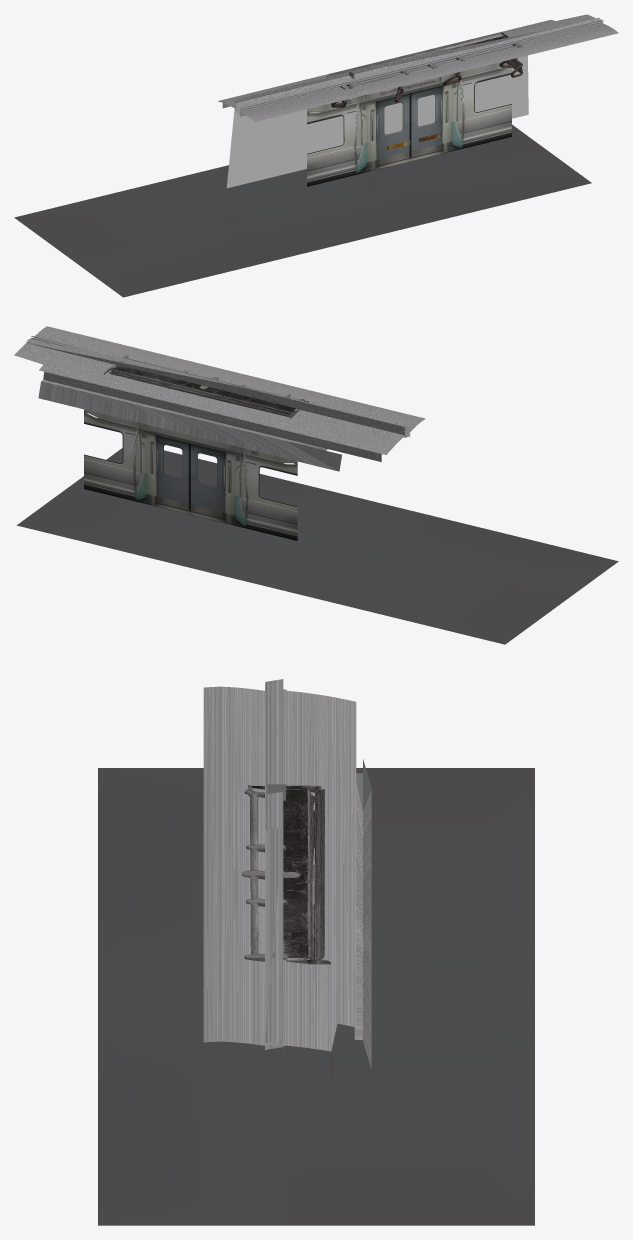
The model's file is Metro.glb.
3 renders of one model, top to bottom at view 1: azimuth 30°, elevation 25°; view 2: azimuth 150°, elevation 25°; view 3: azimuth 270°, elevation 25°, orthographic. The views are drawn at different scales.
Visible parts, largest first — view 1: Line002__0.002, Empty.001, Line002__0.001, window; view 2: Line002__0.002, Line002__0.001, Empty.001; view 3: Line002__0.002, Line002__0.001.
Boxes of the visible parts, x1,y1,x2,y2 form: Line002__0.002: (14, 32, 591, 297); Empty.001: (307, 61, 511, 186); Line002__0.001: (217, 14, 618, 121); window: (226, 55, 528, 188); Line002__0.002: (16, 355, 618, 644); Line002__0.001: (14, 326, 425, 471); Empty.001: (84, 409, 297, 540); Line002__0.002: (98, 768, 534, 1225); Line002__0.001: (203, 679, 371, 1068).
Size of the model in its own units: 2.92 by 0.7738 by 1.06.
Materials: 7 (7 with a texture image).
